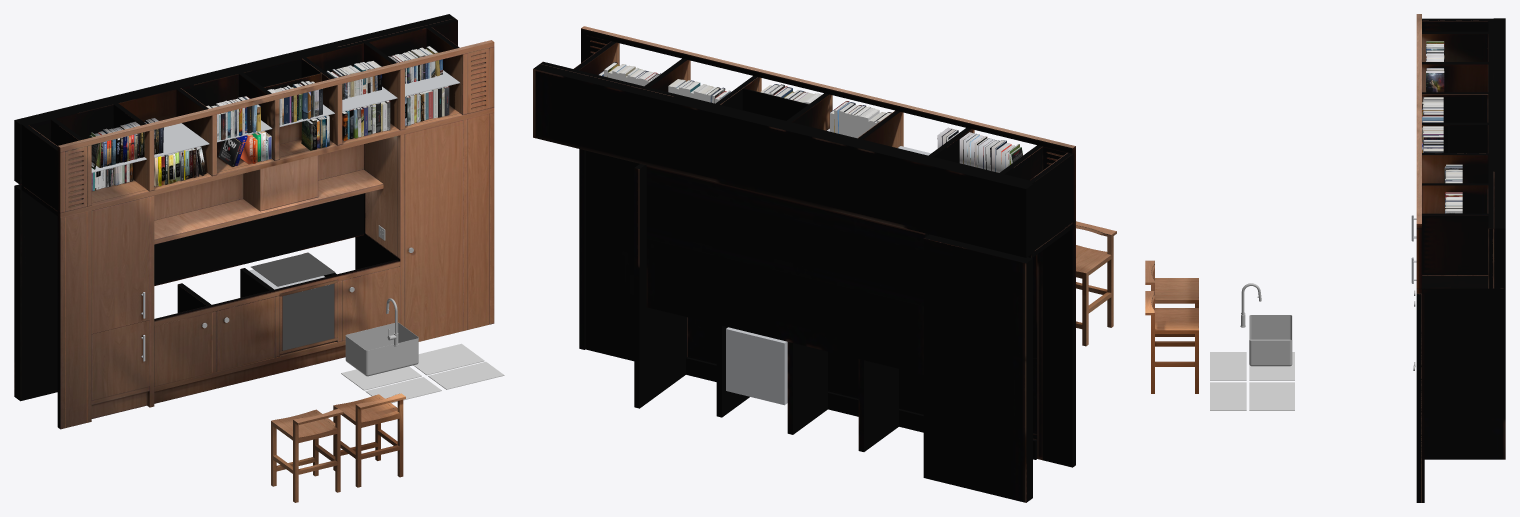
File: Kitchen.glb
3 views of the same model, side by side, from view 1: azimuth 30°, elevation 25°; view 2: azimuth 150°, elevation 25°; view 3: azimuth 270°, elevation 25° (orthographic). The views are drawn at different scales.
Parts seen in each view (by area): view 1: Interior_Wood_Kitchen_Bed1, Alumininum_Kitchen.002, Table.003, White_Kitchen.002, Twenty books, Sixteen books, Books_30_A_Object, Books_30_C_Object, Books_30_D_Object, Books_30_B_Object, Books_40_C_Object, Books_40_D_Object (+2 smaller); view 2: Interior_Wood_Kitchen_Bed1, Alumininum_Kitchen.002, Table.003, Twenty books, Books_30_C_Object, Books_40_C_Object, Books_40_D_Object; view 3: Interior_Wood_Kitchen_Bed1, White_Kitchen.002, Table.003, Alumininum_Kitchen.002, Twenty books, Books_30_D_Object, Books_30_C_Object.
Boxes of the visible parts, x1,y1,x2,y2 form: Interior_Wood_Kitchen_Bed1: (14, 14, 494, 429); Alumininum_Kitchen.002: (91, 70, 459, 376); Table.003: (271, 393, 405, 502); White_Kitchen.002: (341, 225, 504, 403); Twenty books: (89, 118, 163, 169); Sixteen books: (154, 146, 206, 186); Books_30_A_Object: (342, 100, 390, 140); Books_30_C_Object: (206, 96, 260, 140); Books_30_D_Object: (267, 81, 322, 125); Books_30_B_Object: (405, 86, 449, 125); Books_40_C_Object: (326, 61, 381, 99); Books_40_D_Object: (388, 46, 442, 83); Interior_Wood_Kitchen_Bed1: (533, 26, 1075, 502); Alumininum_Kitchen.002: (726, 128, 930, 405); Table.003: (1076, 221, 1116, 346); Twenty books: (937, 127, 1022, 172); Books_30_C_Object: (830, 101, 891, 138); Books_40_C_Object: (668, 79, 730, 103); Books_40_D_Object: (598, 62, 660, 86); Interior_Wood_Kitchen_Bed1: (1416, 14, 1505, 502); White_Kitchen.002: (1210, 352, 1294, 410); Table.003: (1145, 260, 1198, 393); Alumininum_Kitchen.002: (1240, 215, 1416, 370); Twenty books: (1426, 41, 1444, 92); Books_30_D_Object: (1422, 126, 1443, 152); Books_30_C_Object: (1422, 97, 1443, 122).
Bounding box in the file's own units: 1.88 × 1.2 × 1.36.
33 materials, 27 textured.
